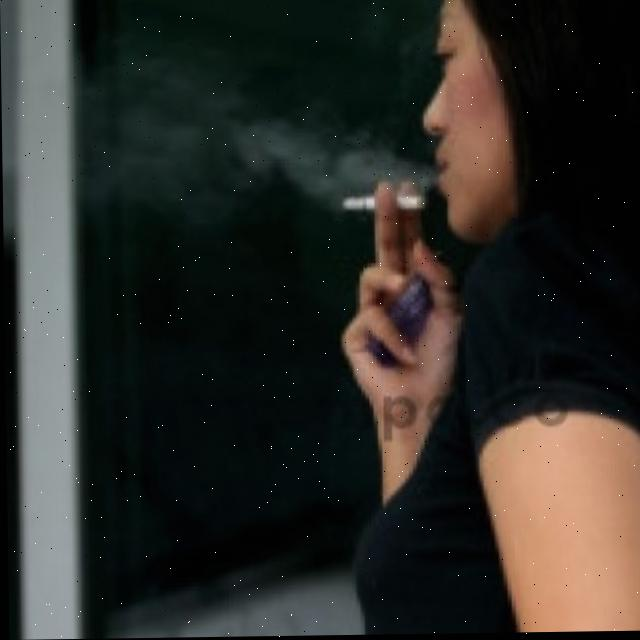cigarette: (340, 196, 425, 212)
